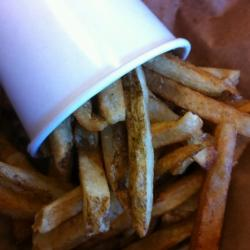fries: (80, 105, 225, 232)
